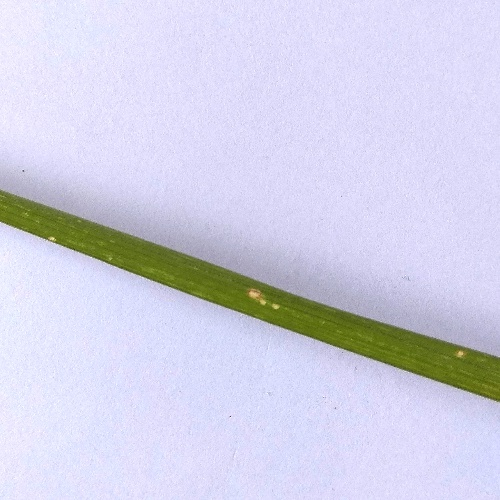Busuk Leher: (245, 284, 283, 312), (45, 227, 62, 251), (450, 344, 469, 362)
